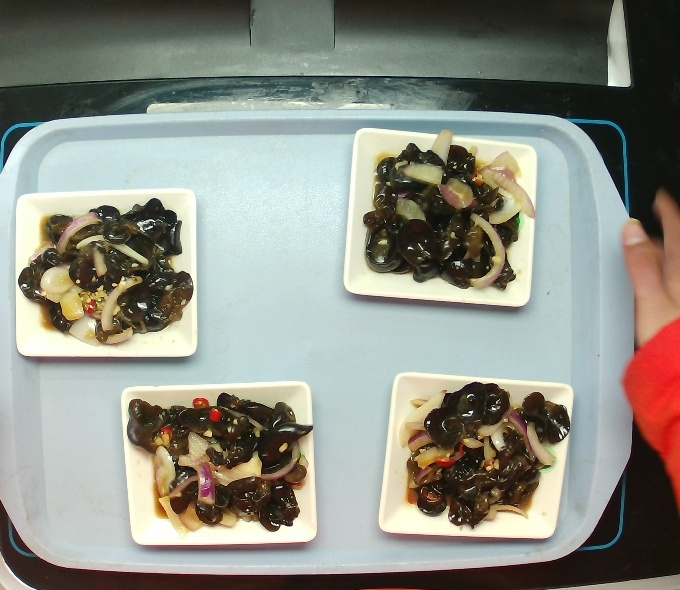wcq-LiangBanMuEr: (346, 134, 544, 303), (108, 386, 331, 536), (387, 376, 578, 534), (10, 198, 205, 349)
